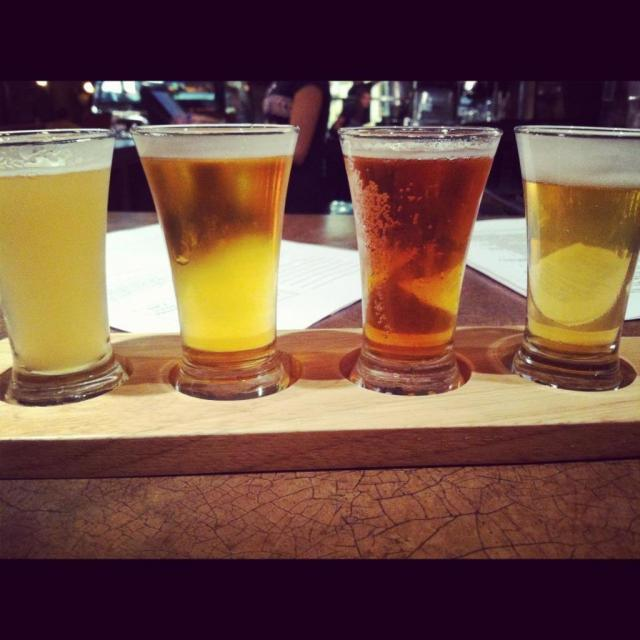Juice: (10, 101, 119, 395)
